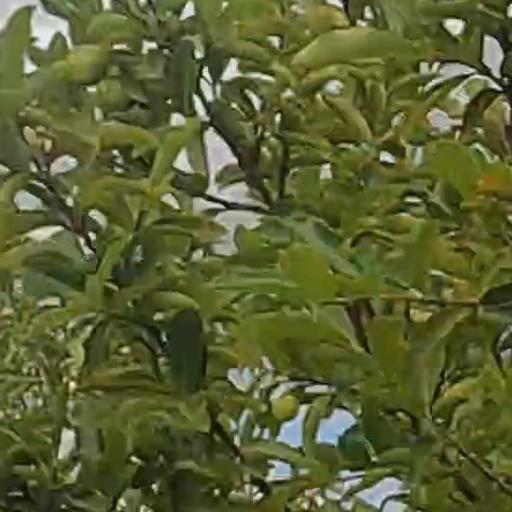acerola: (66, 46, 106, 83), (271, 396, 298, 423)
